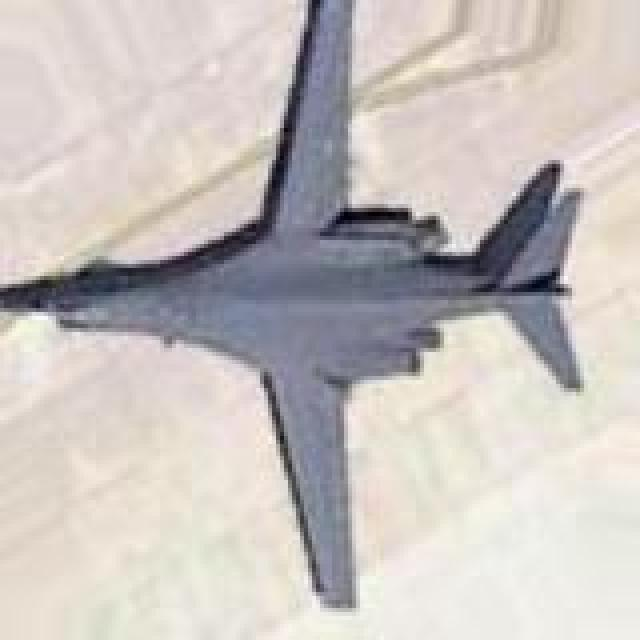B-1_TopDown: (0, 0, 588, 608)
